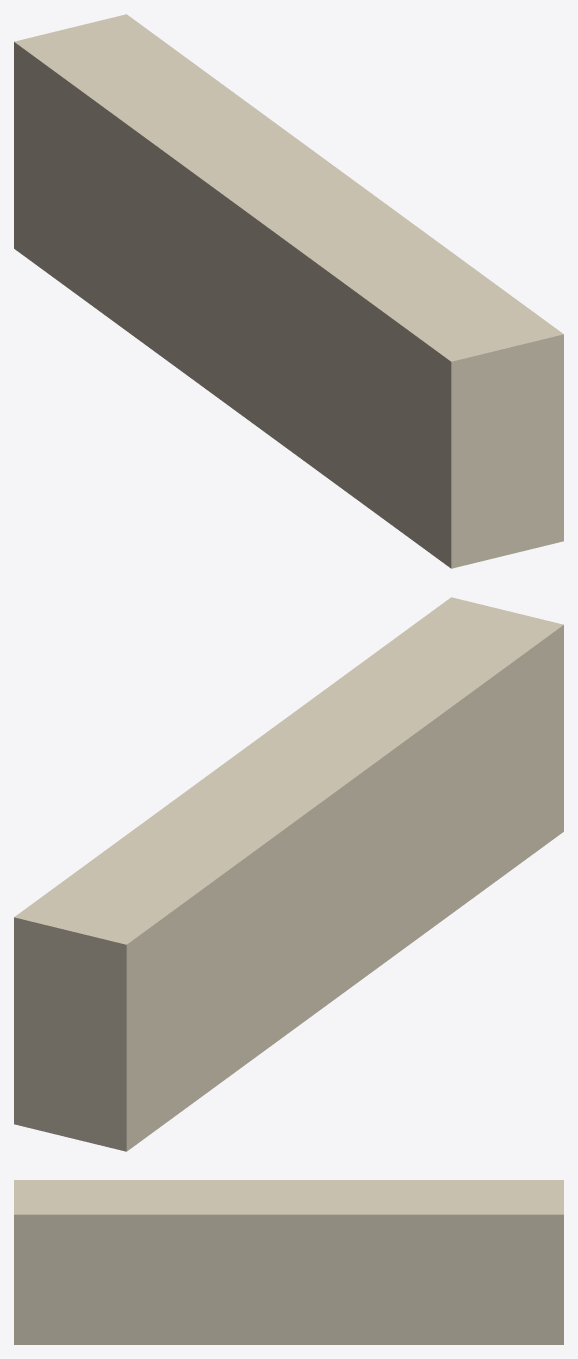
The picture shows the model from 3 angles, top to bottom: view 1: azimuth 30°, elevation 25°; view 2: azimuth 150°, elevation 25°; view 3: azimuth 270°, elevation 25°; orthographic projection. The views are drawn at different scales.
Parts seen in each view (by area): view 1: A-GF-WINDOW-005-HEAD; view 2: A-GF-WINDOW-005-HEAD; view 3: A-GF-WINDOW-005-HEAD.
Boxes of the visible parts, <box> form: A-GF-WINDOW-005-HEAD: <box>14,14,563,568</box>; A-GF-WINDOW-005-HEAD: <box>14,597,563,1151</box>; A-GF-WINDOW-005-HEAD: <box>14,1180,563,1344</box>.
Size of the model in its own units: 0.2678 by 0.47 by 1.8.
